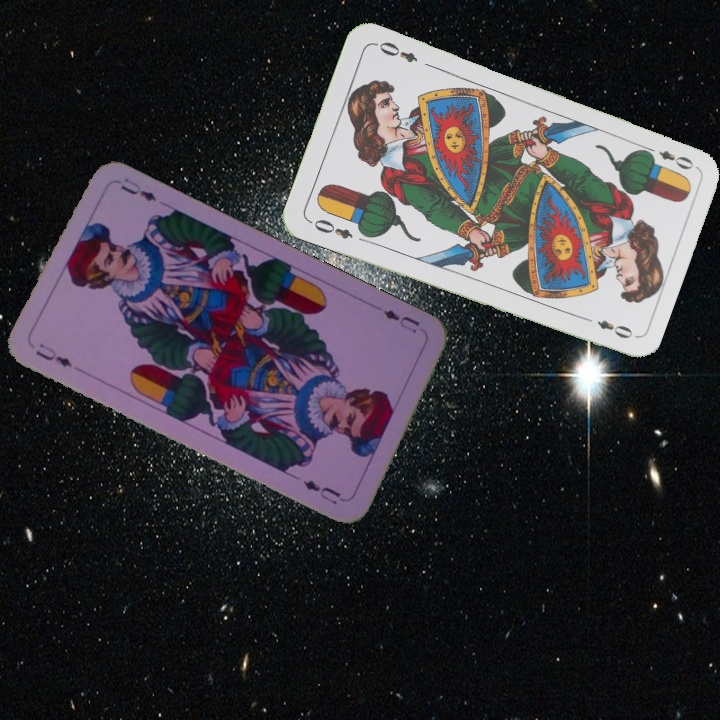EO: (640, 142, 697, 172), (305, 215, 356, 242)
EU: (379, 305, 423, 336), (31, 339, 75, 370)
